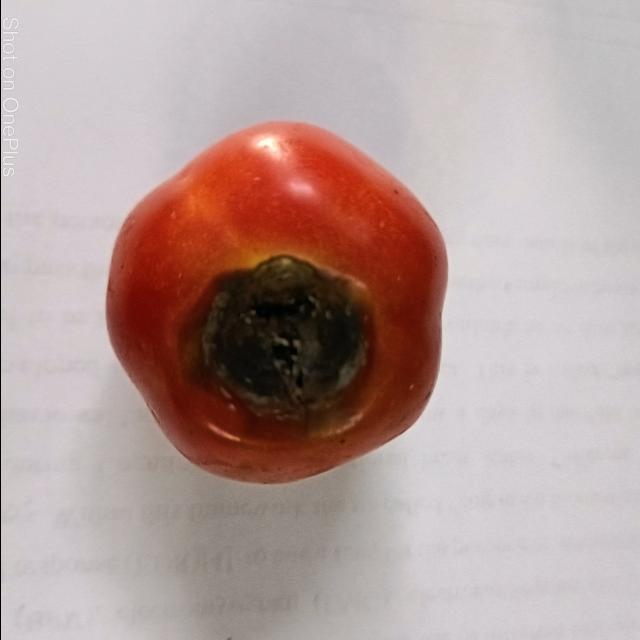Anthrocnose: (180, 258, 387, 442)
